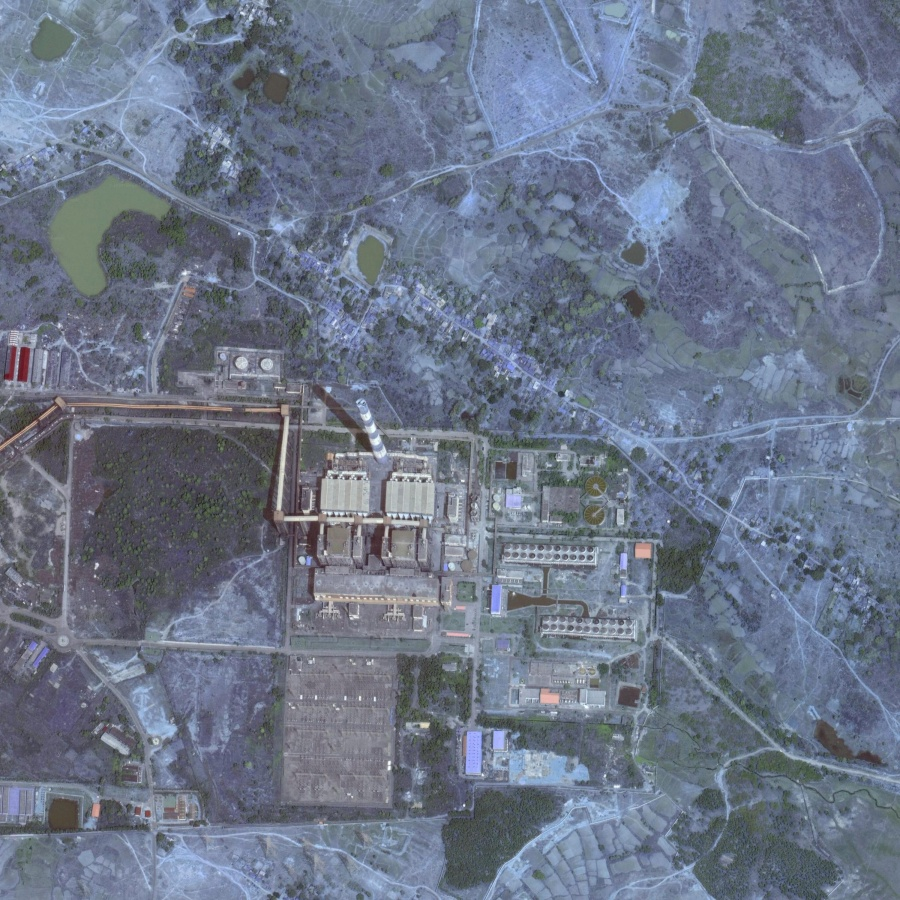PowerPlant: (287, 359, 441, 492)
